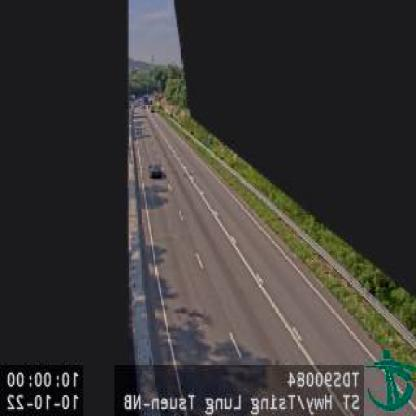Car: (148, 160, 162, 176)
